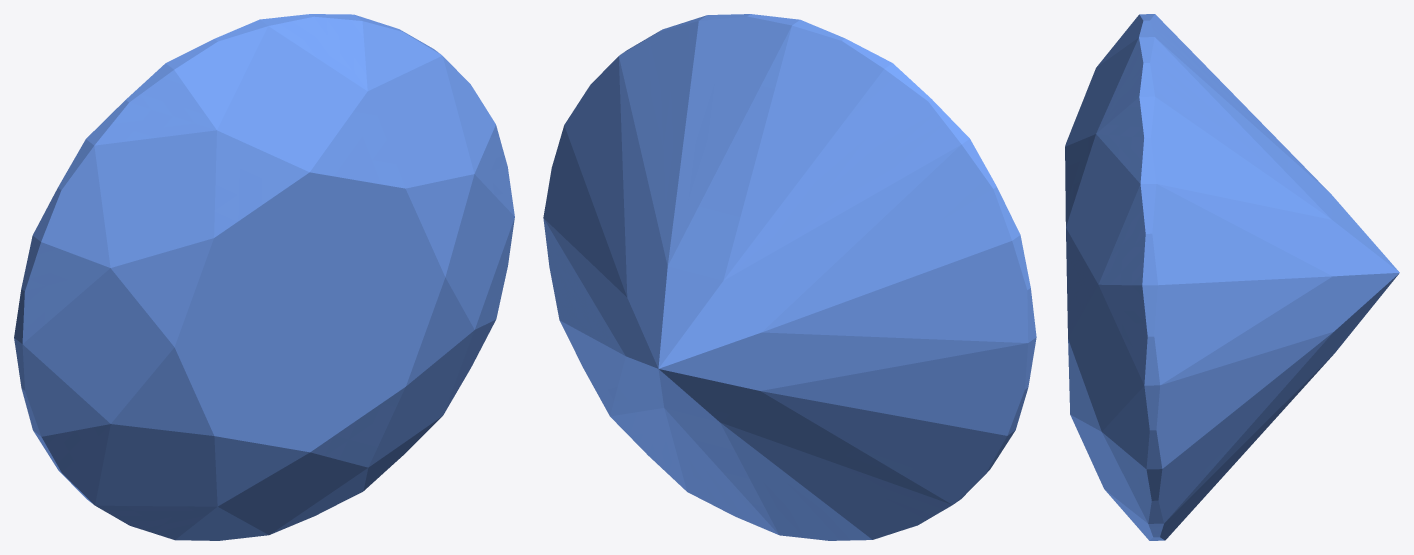
File: sapphire.glb
The picture shows the model from 3 angles, left to right: view 1: azimuth 30°, elevation 25°; view 2: azimuth 150°, elevation 25°; view 3: azimuth 270°, elevation 25°; orthographic projection. The views are drawn at different scales.
Parts seen in each view (by area): view 1: Royal blue sapphire.001; view 2: Royal blue sapphire.001; view 3: Royal blue sapphire.001.
Boxes of the visible parts, bbox=[...] form: Royal blue sapphire.001: bbox=[14, 14, 514, 540]; Royal blue sapphire.001: bbox=[543, 14, 1036, 540]; Royal blue sapphire.001: bbox=[1065, 14, 1399, 540].
Bounding box in the file's own units: 0.17 × 0.1701 × 0.108.
